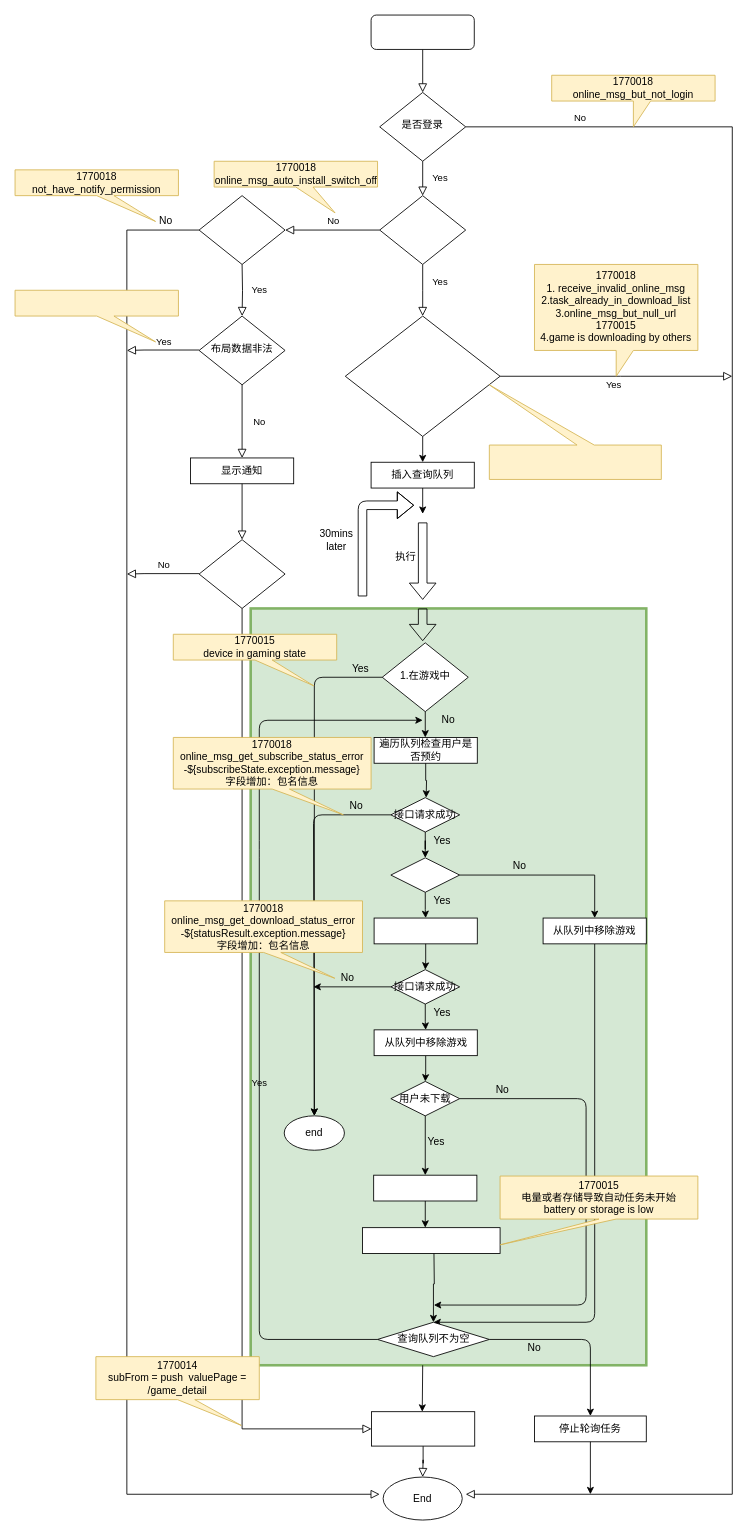
This 756x1535 diagram has some shape labels left out. The shapes that lost their labels are listed below. From the top down, each one's centre as x and y in pixels, then its label:
At point 422,31: "预约上线消息".
At point 241,229: "是否有 通知权限".
At point 422,229: "预约上线 自动安装 打开".
At point 96,315: "1770018 invalid_data_$msg.layoutType".
At point 422,375: "1.数据不合法 2.下载列表中有该游戏 3.downloadUrl 为空 4.正在被其他下载器下载".
At point 574,431: "1770014 第3步后上报一个开始下载".
At point 241,573: "点击进入详 情页开始下载".
At point 425,874: "用户已预约".
At point 425,930: "遍历队列检查用户是否下载".
At point 425,1187: "创建下载任务".
At point 431,1240: "触发下载任务".
At point 423,1428: "开始下载".
